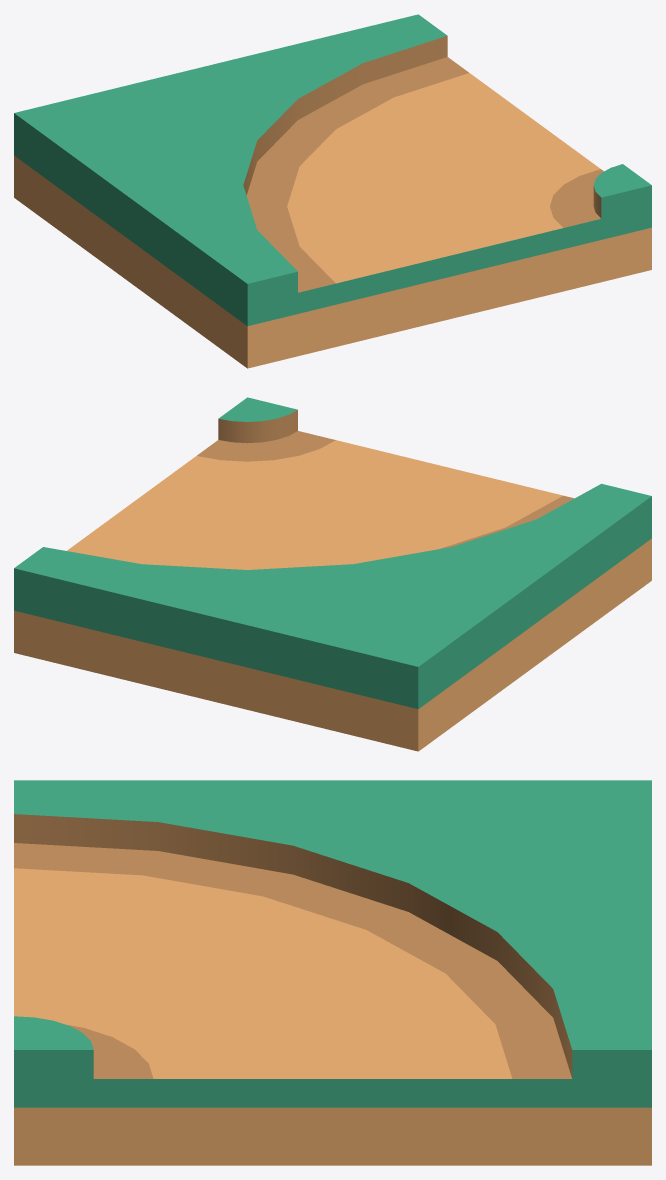
File: TilePathCurveGrass.fbx
3 renders of one model, top to bottom at view 1: azimuth 30°, elevation 25°; view 2: azimuth 150°, elevation 25°; view 3: azimuth 270°, elevation 25°, orthographic. The views are drawn at different scales.
Visible parts, largest first — view 1: tile_cornerRound; view 2: tile_cornerRound; view 3: tile_cornerRound.
Boxes of the visible parts, x1=… form: tile_cornerRound: x1=14, y1=14, x2=651, y2=368; tile_cornerRound: x1=14, y1=397, x2=651, y2=751; tile_cornerRound: x1=14, y1=780, x2=651, y2=1165.
Size of the model in its own units: 39.37 by 7.87 by 39.37.
